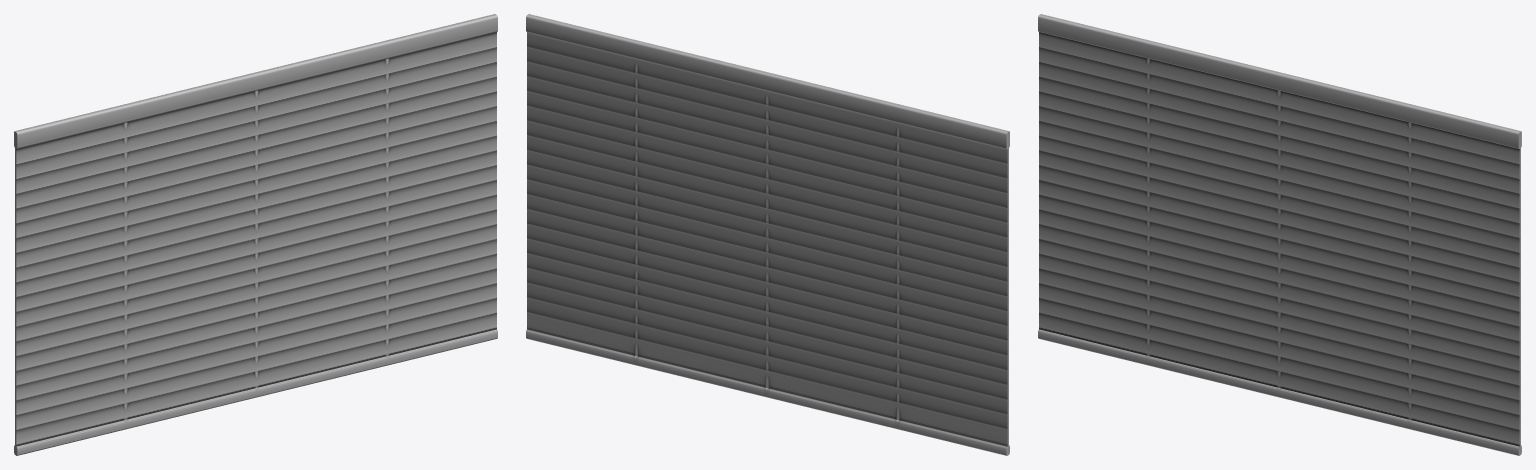
Rendered from PropBlinds01TypeJ_1.FBX.
3 views of the same model, side by side, from view 1: azimuth 30°, elevation 25°; view 2: azimuth 150°, elevation 25°; view 3: azimuth 330°, elevation 25° (orthographic).
Parts seen in each view (by area): view 1: PropBlinds01TypeJ_1; view 2: PropBlinds01TypeJ_1; view 3: PropBlinds01TypeJ_1.
Part boxes in pixels (left/top/right/bottom): PropBlinds01TypeJ_1: left=14, top=14, right=497, bottom=455; PropBlinds01TypeJ_1: left=526, top=14, right=1009, bottom=455; PropBlinds01TypeJ_1: left=1038, top=14, right=1521, bottom=455.
Size of what is drawn, in the model's own units: 3.5 by 2.25 by 0.04.
